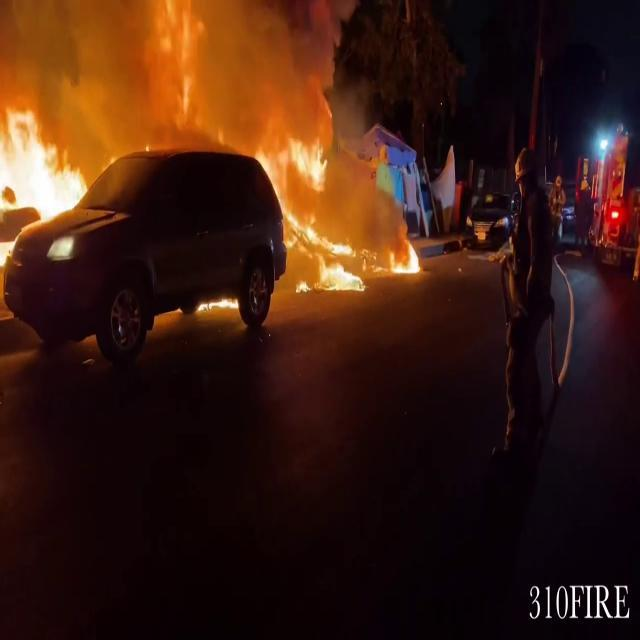Fire: (267, 125, 413, 291), (0, 98, 96, 312), (0, 98, 96, 242), (389, 237, 423, 278)
Smoke: (6, 0, 370, 152)
